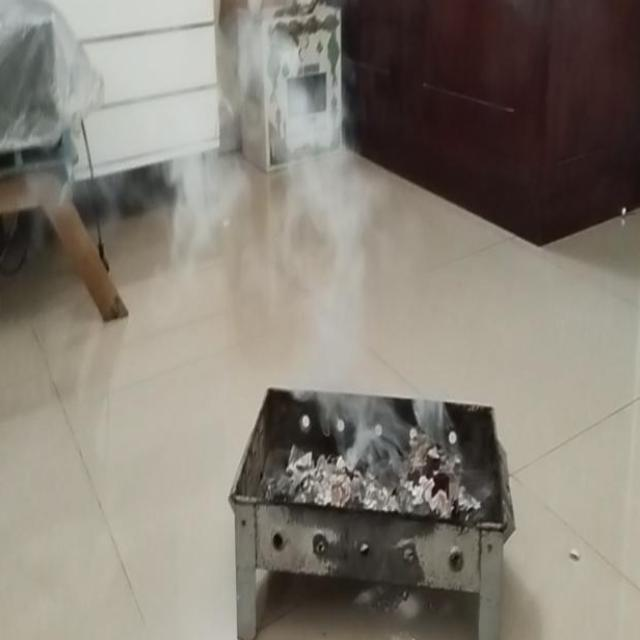fire: (292, 132, 403, 474), (160, 132, 251, 288)
